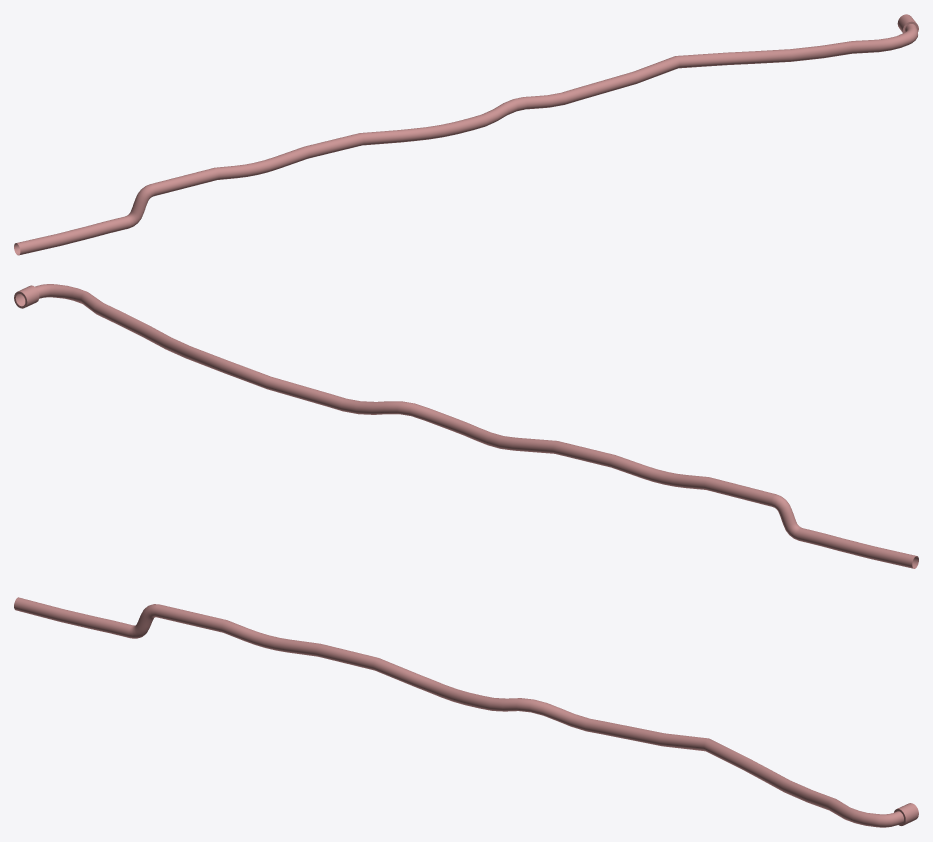
Rendered from Pipe_Big_L_Up.fbx.
3 views of the same model, one above another, from view 1: azimuth 30°, elevation 25°; view 2: azimuth 150°, elevation 25°; view 3: azimuth 330°, elevation 25° (orthographic). The views are drawn at different scales.
Parts seen in each view (by area): view 1: Pipe_Big_L_Up; view 2: Pipe_Big_L_Up; view 3: Pipe_Big_L_Up.
Boxes of the visible parts, box(x1,y1,x2,y2) form: Pipe_Big_L_Up: box(14, 14, 918, 255); Pipe_Big_L_Up: box(14, 284, 918, 568); Pipe_Big_L_Up: box(14, 597, 918, 827).
Size of the model in its own units: 2274 by 100 by 184.
